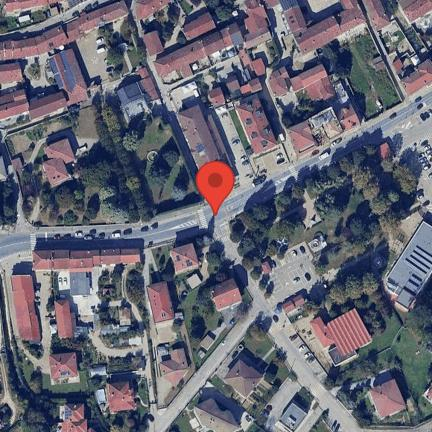area_open: (215, 112, 290, 187), (386, 106, 431, 200), (271, 7, 319, 73), (269, 245, 320, 307), (288, 316, 331, 382), (73, 31, 111, 86), (23, 55, 56, 102), (202, 56, 244, 88), (35, 272, 66, 301), (182, 94, 210, 120), (1, 254, 29, 277), (249, 44, 271, 69), (320, 412, 345, 432), (280, 88, 297, 111)
built: (168, 78, 240, 204), (0, 0, 128, 60), (0, 48, 89, 123), (29, 246, 142, 299), (154, 21, 246, 82), (265, 0, 366, 55), (384, 219, 432, 310), (289, 100, 362, 158), (310, 307, 374, 371), (114, 64, 164, 127), (228, 96, 279, 157), (267, 61, 333, 104), (9, 274, 44, 344), (215, 358, 264, 401), (186, 397, 241, 432), (226, 51, 268, 94), (368, 375, 408, 420), (40, 139, 76, 186), (390, 57, 432, 96), (242, 0, 274, 48), (154, 345, 188, 389), (207, 276, 244, 314), (147, 280, 176, 323), (3, 0, 65, 20), (100, 299, 132, 336), (48, 352, 82, 386), (107, 380, 138, 415), (56, 400, 88, 432), (53, 298, 77, 339), (181, 12, 216, 40), (134, 0, 173, 25), (167, 244, 199, 274), (273, 403, 306, 432), (363, 0, 393, 31), (395, 0, 432, 25), (0, 62, 22, 92), (143, 30, 164, 57), (280, 292, 307, 312), (206, 84, 227, 109), (379, 139, 395, 161), (200, 331, 214, 352), (407, 48, 421, 68), (419, 382, 432, 403), (186, 274, 203, 290), (0, 156, 10, 183), (371, 56, 385, 73), (87, 365, 106, 377), (95, 387, 105, 404), (259, 263, 271, 277), (76, 326, 86, 338)
vegetation_high: (230, 145, 424, 297), (37, 97, 150, 226), (210, 321, 287, 432), (318, 271, 394, 339), (4, 351, 54, 432), (48, 338, 145, 378), (322, 370, 379, 432), (104, 269, 151, 344), (87, 403, 151, 432), (407, 283, 431, 355), (97, 268, 122, 320), (282, 93, 321, 124), (0, 11, 47, 35), (232, 113, 254, 155), (204, 0, 244, 23), (321, 42, 346, 76), (143, 17, 174, 44), (3, 181, 20, 224), (267, 39, 281, 70), (196, 75, 210, 102), (21, 343, 44, 358), (168, 4, 177, 25)
vegetation_low: (268, 190, 422, 288), (149, 235, 231, 409), (7, 85, 105, 191), (345, 311, 432, 427), (131, 106, 201, 215), (12, 159, 105, 232), (336, 32, 401, 118), (18, 345, 90, 398), (102, 20, 146, 77), (383, 1, 424, 52), (219, 294, 256, 341)
